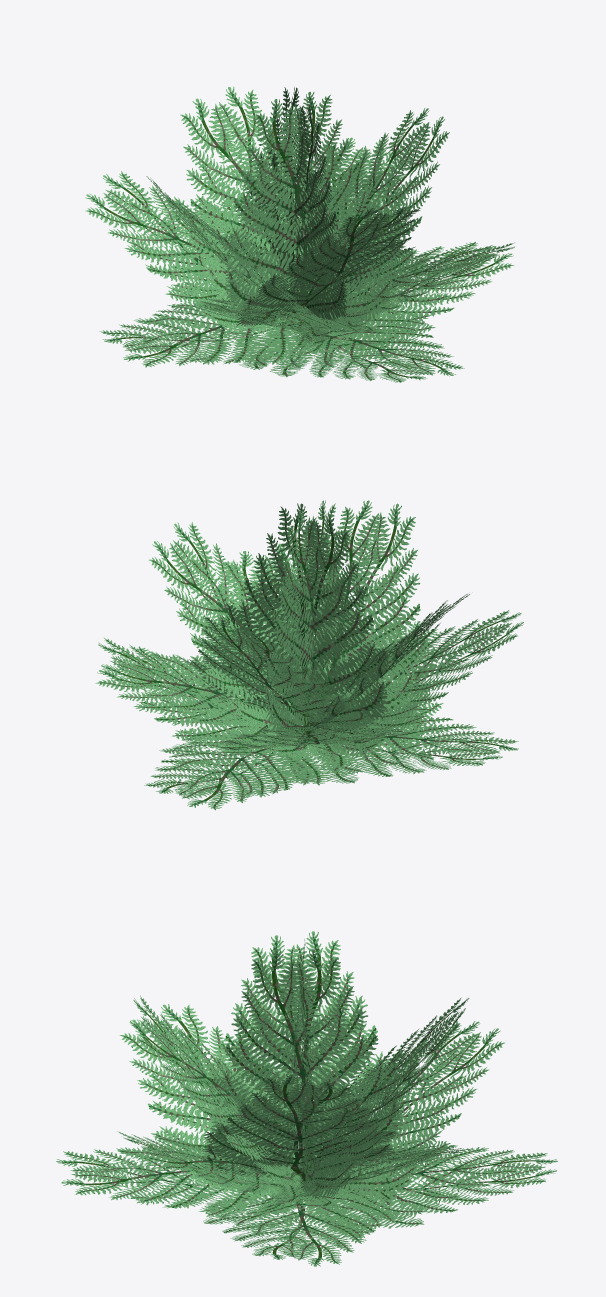
The model's file is fernbush.fbx.
3 renders of one model, top to bottom at view 1: azimuth 30°, elevation 25°; view 2: azimuth 150°, elevation 25°; view 3: azimuth 270°, elevation 25°, orthographic. The views are drawn at different scales.
Visible parts, largest first — view 1: Plane.026, Plane.022, Plane.020, Plane.008, Plane.027, Plane.006, Plane.019, Plane.004, Plane.025, Plane.021, Plane.005, Plane.023 (+15 smaller); view 2: Plane.027, Plane.026, Plane.018, Plane.020, Plane, Plane.023, Plane.025, Plane.019, Plane.010, Plane.006, Plane.014, Plane.001 (+16 smaller); view 3: Plane.024, Plane.021, Plane.025, Plane.002, Plane.008, Plane.004, Plane.020, Plane, Plane.014, Plane.018, Plane.016, Plane.022 (+13 smaller).
Boxes of the visible parts, bbox=[...] form: Plane.026: bbox=[220, 99, 376, 320]; Plane.022: bbox=[180, 98, 356, 321]; Plane.020: bbox=[279, 108, 429, 327]; Plane.008: bbox=[85, 193, 283, 335]; Plane.027: bbox=[225, 92, 377, 321]; Plane.006: bbox=[123, 298, 338, 367]; Plane.019: bbox=[236, 208, 405, 326]; Plane.004: bbox=[243, 305, 464, 376]; Plane.025: bbox=[241, 87, 346, 320]; Plane.021: bbox=[284, 116, 449, 330]; Plane.005: bbox=[239, 305, 433, 382]; Plane.023: bbox=[195, 86, 361, 320]; Plane.027: bbox=[222, 503, 386, 733]; Plane.026: bbox=[222, 515, 389, 734]; Plane.018: bbox=[252, 500, 415, 731]; Plane.020: bbox=[149, 541, 329, 739]; Plane: bbox=[169, 733, 356, 810]; Plane.023: bbox=[189, 615, 374, 727]; Plane.025: bbox=[266, 510, 348, 743]; Plane.019: bbox=[252, 503, 429, 734]; Plane.010: bbox=[101, 652, 319, 759]; Plane.006: bbox=[278, 706, 518, 779]; Plane.014: bbox=[314, 610, 521, 753]; Plane.001: bbox=[144, 738, 353, 797]; Plane.024: bbox=[207, 948, 403, 1178]; Plane.021: bbox=[202, 1074, 392, 1177]; Plane.025: bbox=[211, 949, 402, 1181]; Plane.002: bbox=[205, 1187, 396, 1266]; Plane.008: bbox=[292, 1021, 480, 1198]; Plane.004: bbox=[61, 1143, 309, 1217]; Plane.020: bbox=[202, 1081, 396, 1178]; Plane: bbox=[304, 1139, 557, 1231]; Plane.014: bbox=[119, 1019, 315, 1199]; Plane.018: bbox=[130, 1020, 303, 1191]; Plane.016: bbox=[206, 935, 401, 1168]; Plane.022: bbox=[298, 997, 469, 1195].
Size of the model in its own units: 404 by 221 by 415.
